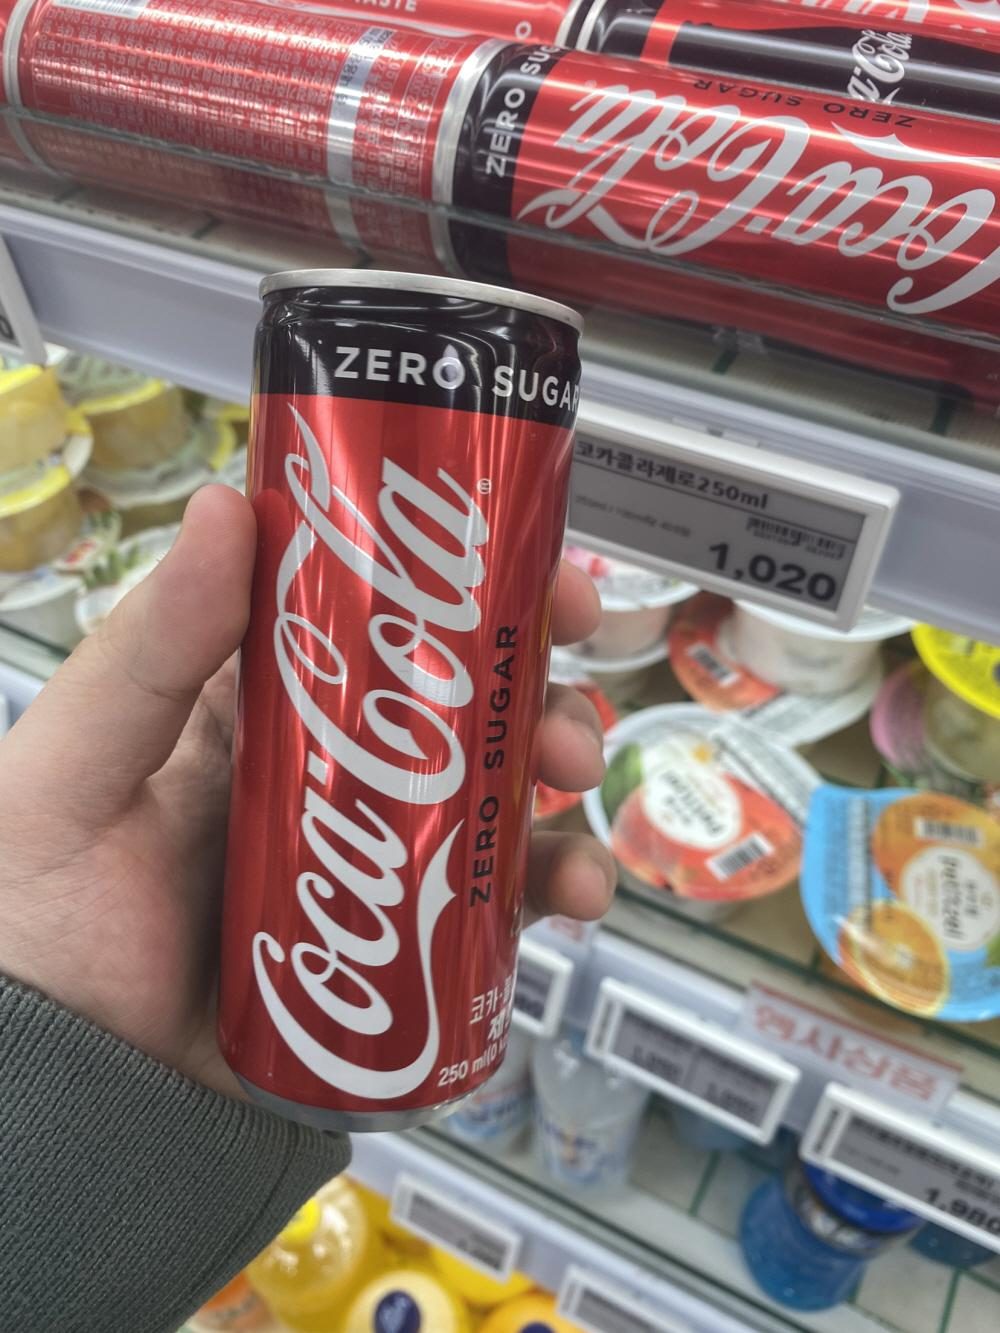cocacola_zero: (225, 261, 550, 1113), (418, 32, 999, 353)
